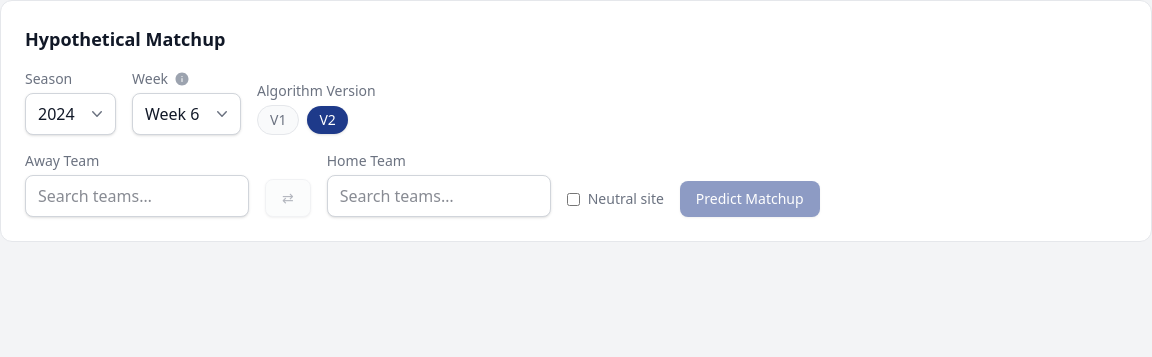
ExperimentalMatchupPanel › swaps the home and away teams
Click the dropdown labelled "Away Team": (137, 196) [25, 175, 249, 217]
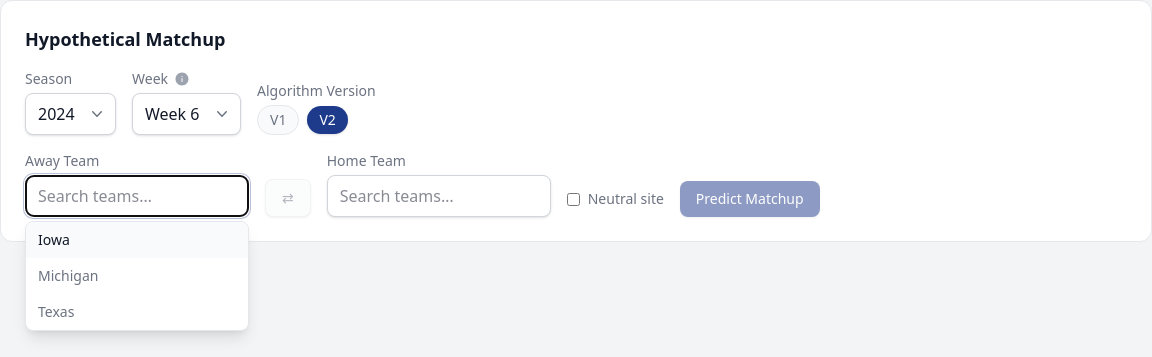
Click the option "Texas": (56, 312) [38, 302, 74, 321]
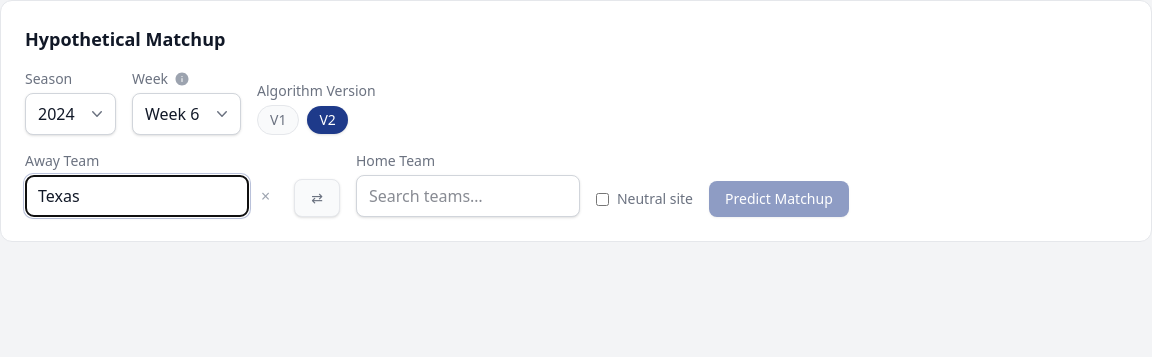
Click the dropdown labelled "Home Team": (468, 196) [356, 175, 580, 217]
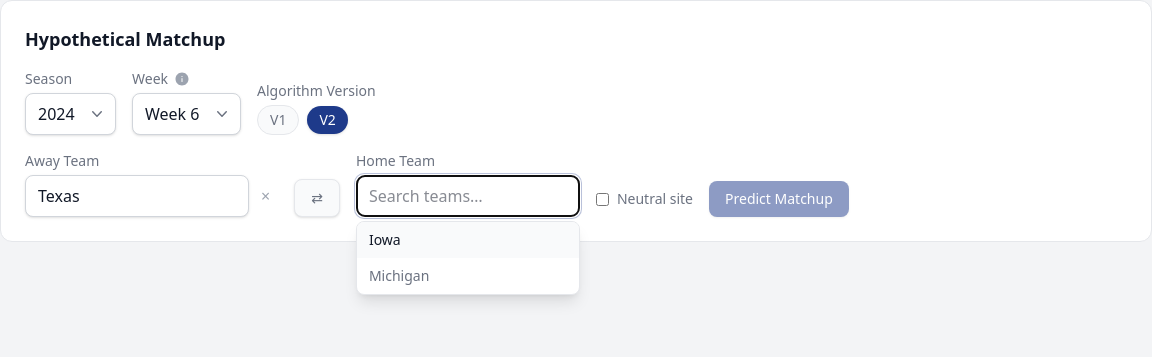
Click the option "Iowa": (468, 240) [357, 222, 579, 258]
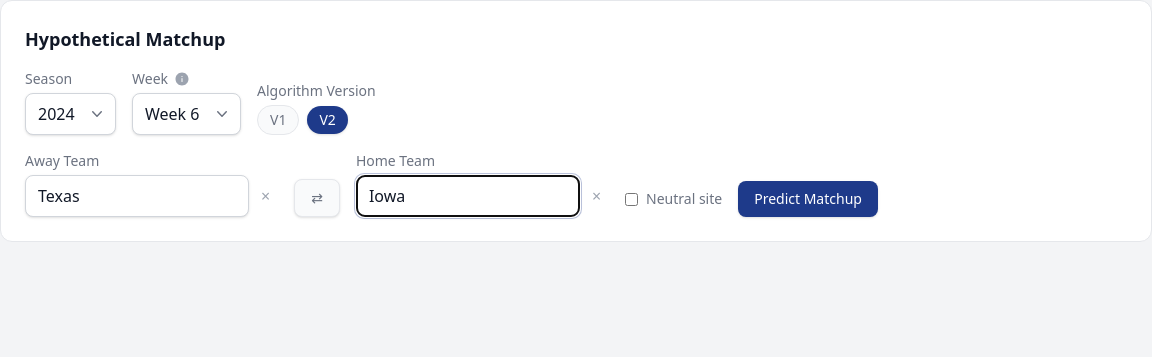
Click the button named "Swap home and away teams": (317, 198) [294, 179, 340, 217]
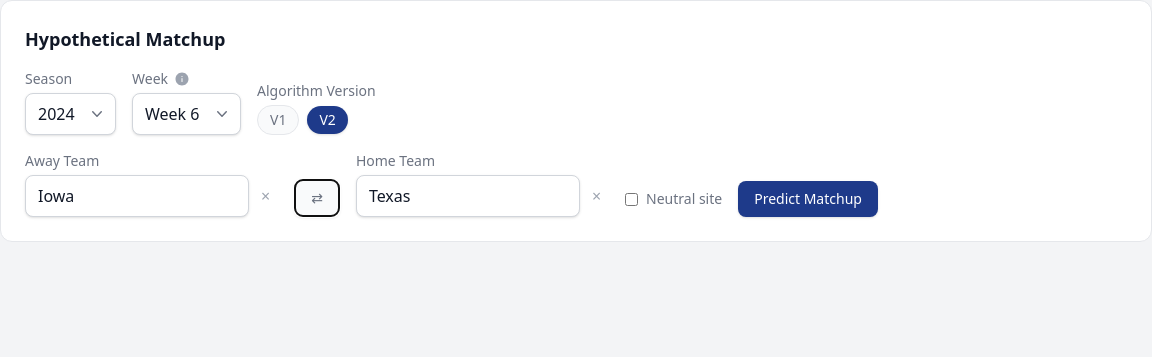
Result: the dropdown labelled "Away Team" holds "Iowa" at [25, 175, 249, 217]
Result: the dropdown labelled "Home Team" holds "Texas" at [356, 175, 580, 217]
